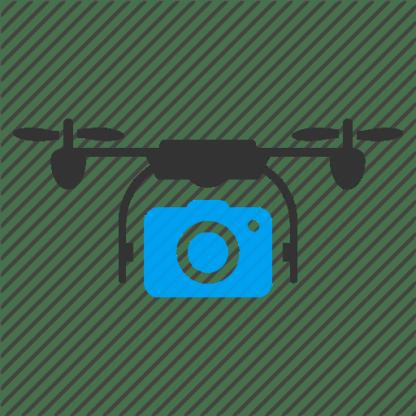drone: (5, 114, 409, 224)
